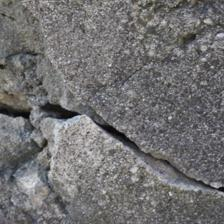Crack: (61, 7, 159, 74), (86, 58, 172, 97)
